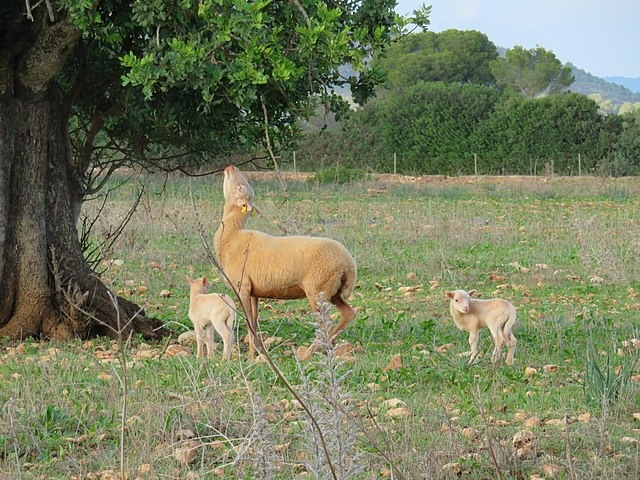standing: (215, 165, 360, 345), (446, 289, 519, 363), (184, 277, 241, 361)
